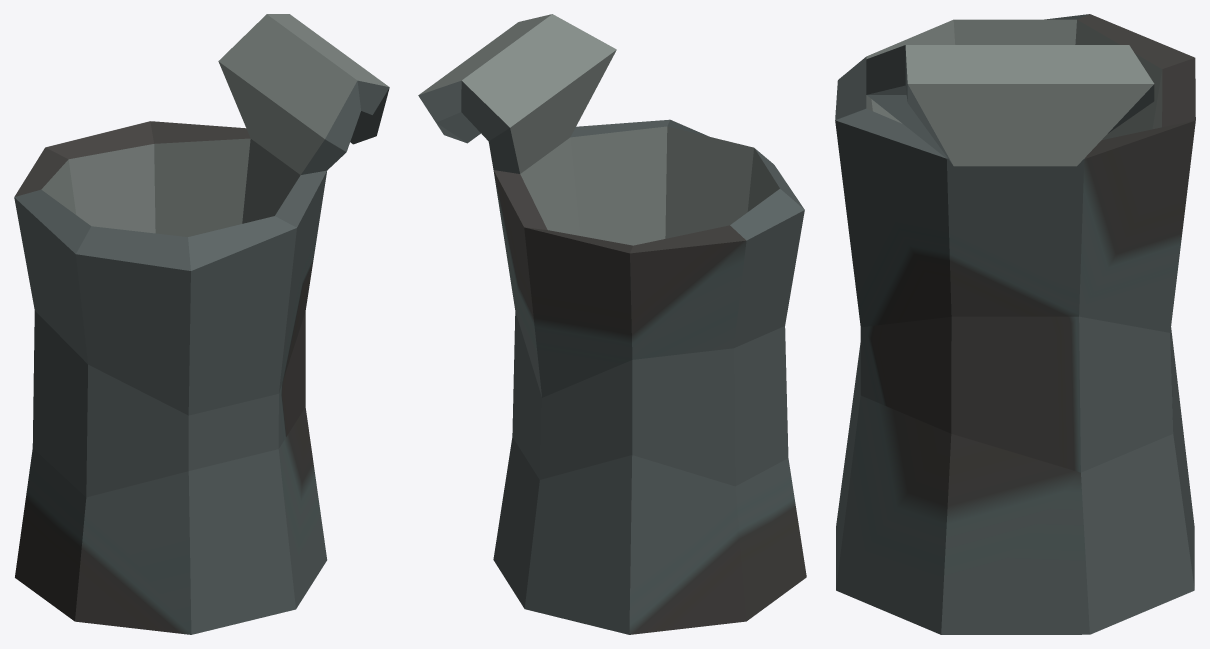
Rendered from SM_Metal_Can.gltf.
3 renders of one model, left to right at view 1: azimuth 30°, elevation 25°; view 2: azimuth 150°, elevation 25°; view 3: azimuth 270°, elevation 25°, orthographic. The views are drawn at different scales.
Parts seen in each view (by area): view 1: SM_Metal_Can; view 2: SM_Metal_Can; view 3: SM_Metal_Can.
Part boxes in pixels (x1,y1,x2,y2): SM_Metal_Can: (14,14,389,634); SM_Metal_Can: (418,14,806,634); SM_Metal_Can: (835,14,1195,634).
Size of the model in its own units: 0.1831 by 0.277 by 0.151.
Materials: 1 (1 with a texture image).
